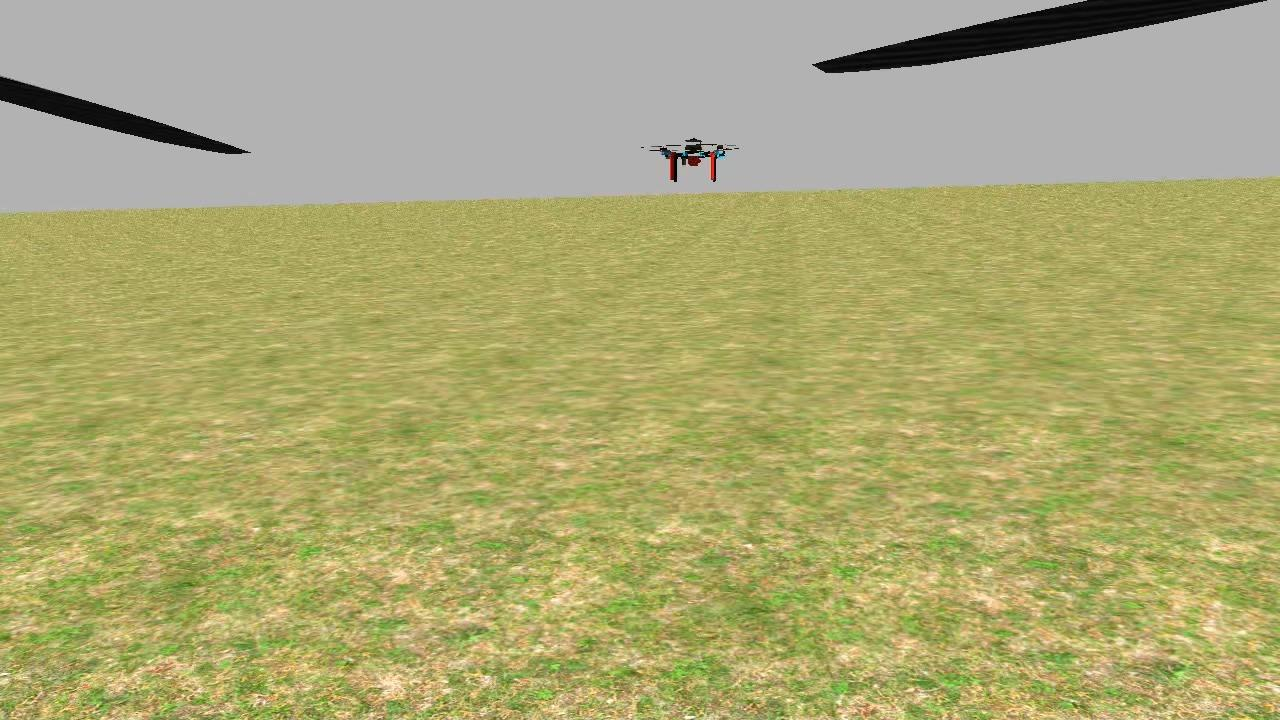UAV: (638, 121, 747, 190)
